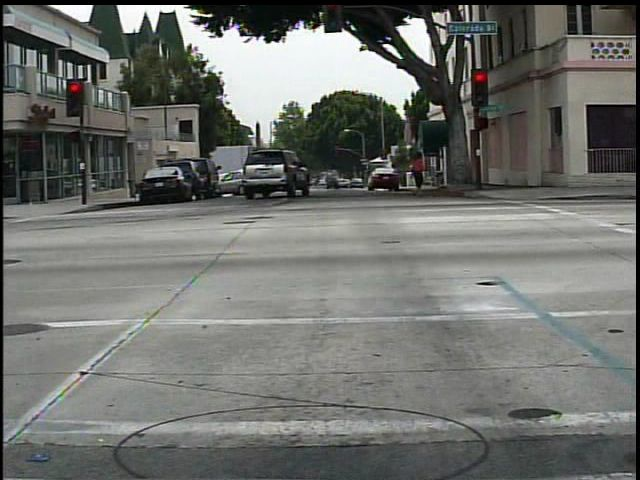person: (404, 149, 432, 197)
